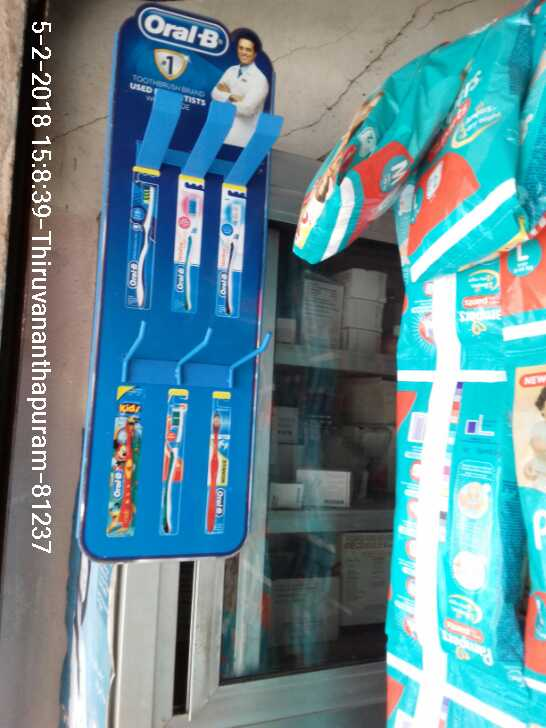pharmacy: (396, 366, 526, 691)
